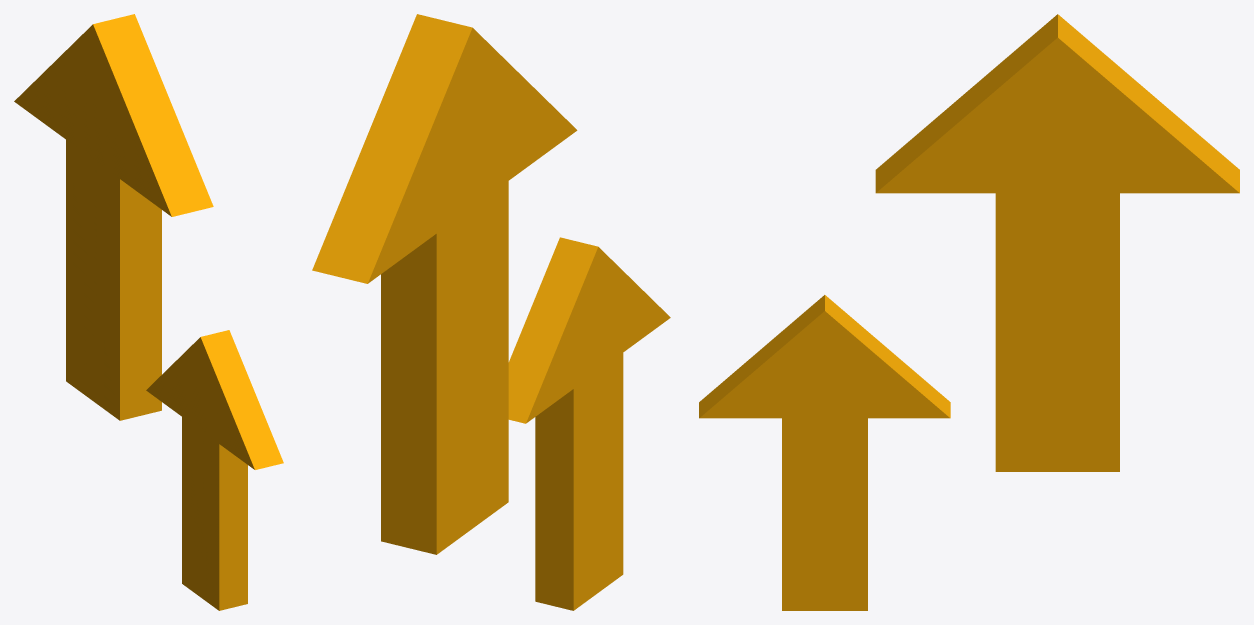
The model's file is Double jump pick up.fbx.
3 views of the same model, side by side, from view 1: azimuth 30°, elevation 25°; view 2: azimuth 150°, elevation 25°; view 3: azimuth 270°, elevation 25° (orthographic). The views are drawn at different scales.
Parts seen in each view (by area): view 1: Cube; view 2: Cube; view 3: Cube.
Part boxes in pixels (<box>): Cube: <box>14,14,283,610</box>; Cube: <box>312,14,670,610</box>; Cube: <box>699,14,1239,610</box>.
Size of the model in its own units: 16.72 by 191 by 162.
